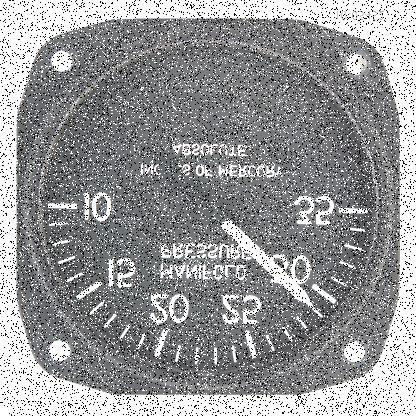needle: (211, 208, 317, 309)
